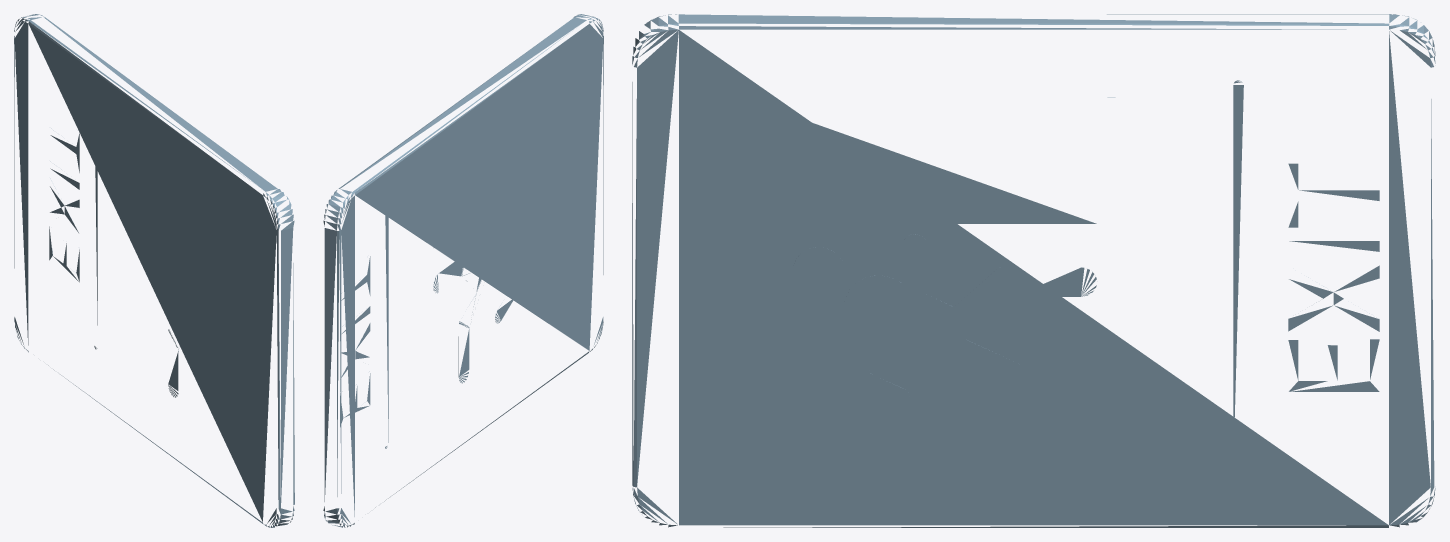
The model's file is sign_hospital_sidewall_b02.glb.
3 renders of one model, left to right at view 1: azimuth 30°, elevation 25°; view 2: azimuth 150°, elevation 25°; view 3: azimuth 270°, elevation 25°, orthographic. The views are drawn at different scales.
Parts seen in each view (by area): view 1: geometry_0; view 2: geometry_0; view 3: geometry_0.
Boxes of the visible parts, x1,y1,x2,y2 form: geometry_0: (14, 14, 294, 527); geometry_0: (323, 14, 603, 527); geometry_0: (632, 14, 1435, 527).
Bounding box in the file's own units: 0.019 × 0.3324 × 0.48.
